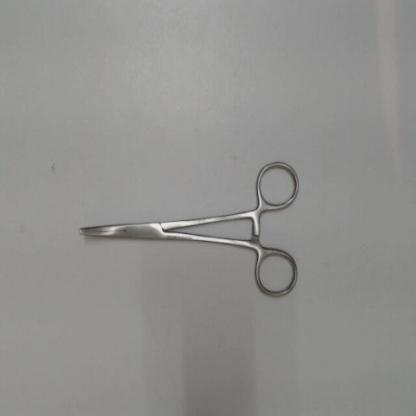Crile Artery Forceps: (71, 154, 307, 310)
